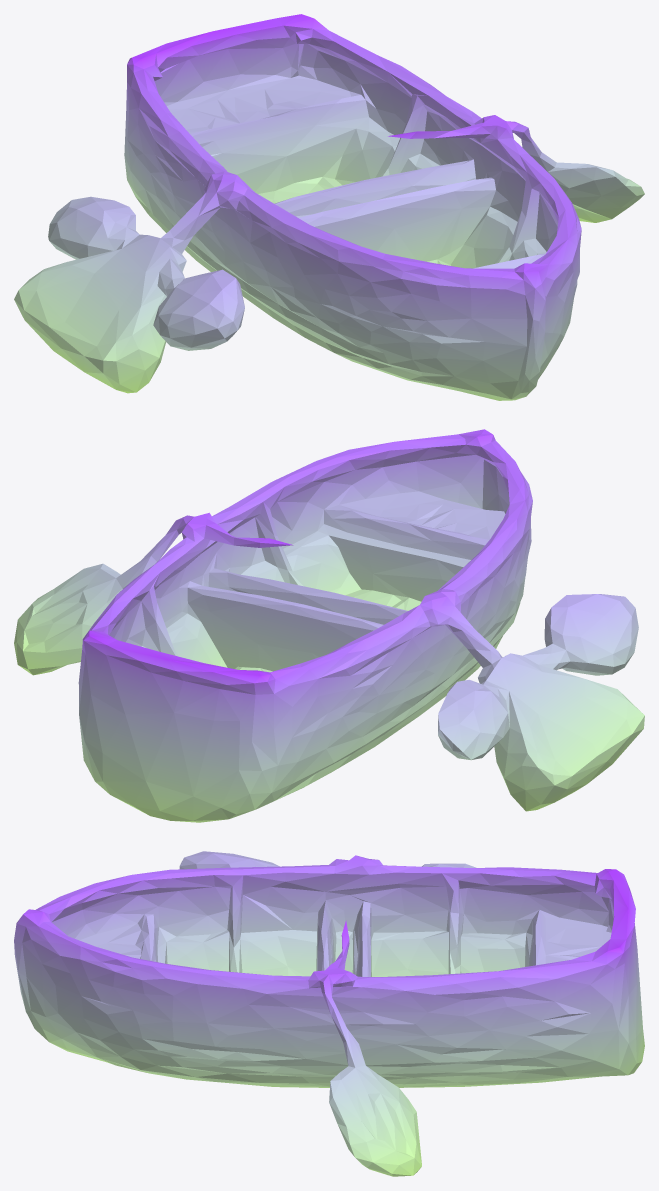
Rendered from 172_cyb_laser_gradient_fish_scales_2958_2026_10_03_518708.glb.
The picture shows the model from 3 angles, top to bottom: view 1: azimuth 30°, elevation 25°; view 2: azimuth 150°, elevation 25°; view 3: azimuth 270°, elevation 25°; orthographic projection. The views are drawn at different scales.
Visible parts, largest first — view 1: geometry_0; view 2: geometry_0; view 3: geometry_0.
Boxes of the visible parts, bbox=[...] form: geometry_0: bbox=[14, 14, 644, 400]; geometry_0: bbox=[14, 429, 644, 822]; geometry_0: bbox=[14, 851, 644, 1176].
Size of the model in its own units: 0.9988 by 0.2895 by 0.9922.
